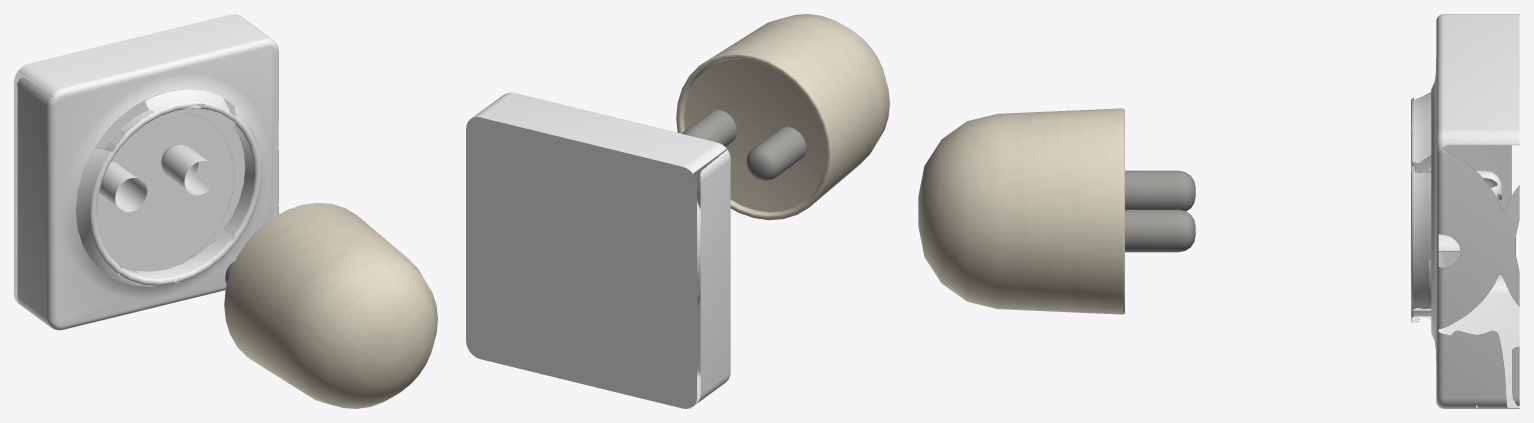
Rendered from разетка.fbx.
3 views of the same model, side by side, from view 1: azimuth 30°, elevation 25°; view 2: azimuth 150°, elevation 25°; view 3: azimuth 270°, elevation 25° (orthographic). The views are drawn at different scales.
Visible parts, largest first — view 1: Cube, Cylinder; view 2: Cube, Cylinder; view 3: Cylinder, Cube.
Part boxes in pixels (box(x1,y1,x2,y2)): Cube: box(14, 14, 278, 330); Cylinder: box(224, 202, 437, 408); Cube: box(466, 92, 730, 408); Cylinder: box(676, 14, 889, 220); Cylinder: box(918, 108, 1195, 314); Cube: box(1411, 14, 1519, 408).
Bounding box in the file's own units: 200 × 200 × 392.
